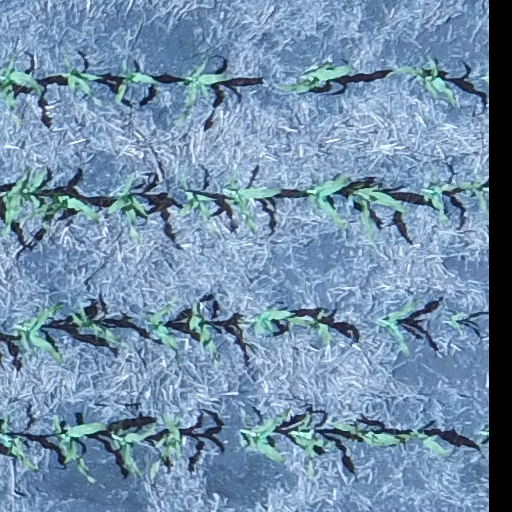planta: (221, 167, 284, 236), (50, 410, 112, 478), (178, 54, 234, 126), (383, 53, 458, 106), (344, 179, 410, 239), (10, 300, 65, 365), (284, 408, 332, 480), (104, 172, 152, 242), (271, 60, 360, 96), (106, 419, 159, 478), (43, 49, 105, 99), (68, 300, 130, 349), (375, 296, 425, 355), (303, 171, 352, 231), (240, 408, 291, 465), (148, 410, 187, 481), (25, 190, 102, 225), (177, 174, 220, 236), (325, 418, 405, 449), (282, 306, 334, 350), (384, 426, 450, 460), (184, 298, 220, 355), (145, 294, 181, 351), (112, 67, 160, 107), (420, 180, 461, 223), (18, 164, 51, 210), (250, 305, 300, 335), (456, 174, 488, 212)
